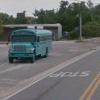Bus: (5, 27, 54, 63)
